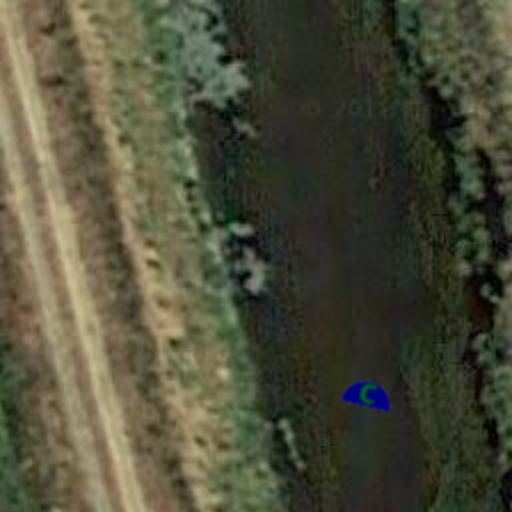semicircle: (336, 362, 400, 426)
